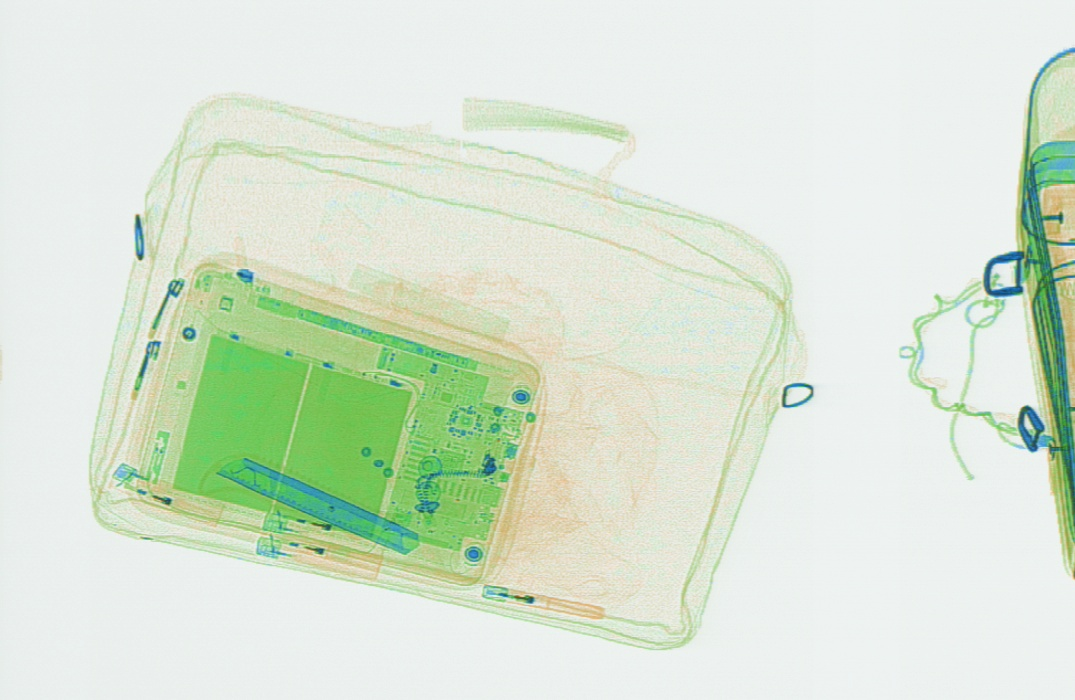knife: (199, 454, 423, 555)
lighter: (109, 460, 225, 522), (256, 531, 383, 582), (259, 505, 385, 556), (480, 582, 607, 620)
